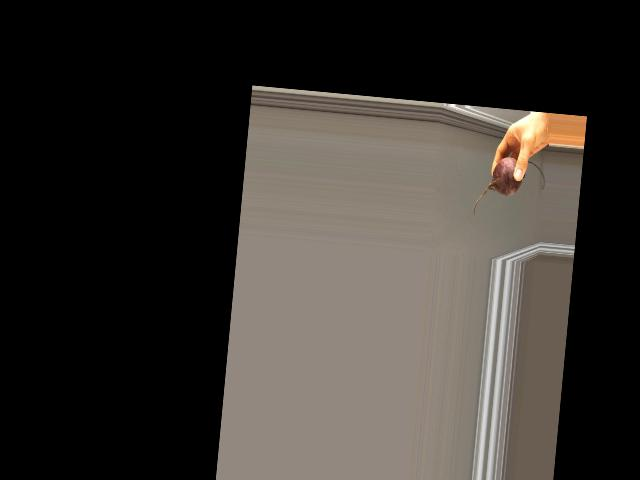beet: (473, 155, 547, 222)
